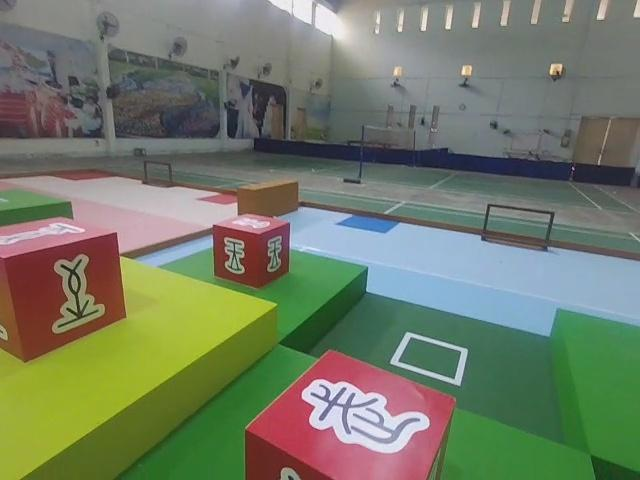R2 Fake: (238, 346, 461, 480)
R2 Real: (0, 212, 128, 368), (210, 212, 295, 292)
